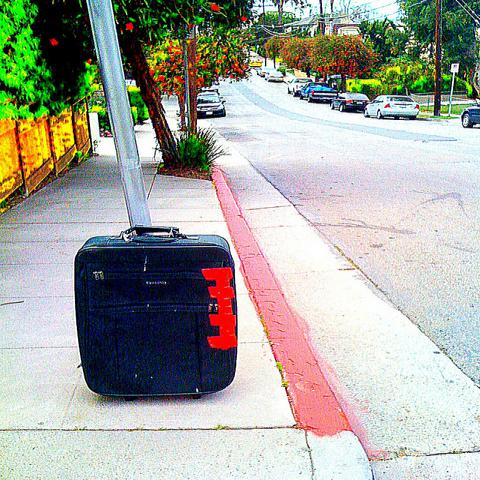car: (365, 94, 420, 120), (299, 82, 337, 103), (331, 93, 368, 112), (198, 91, 224, 115), (287, 78, 312, 96), (460, 106, 480, 128), (265, 71, 285, 81), (256, 68, 276, 77)
